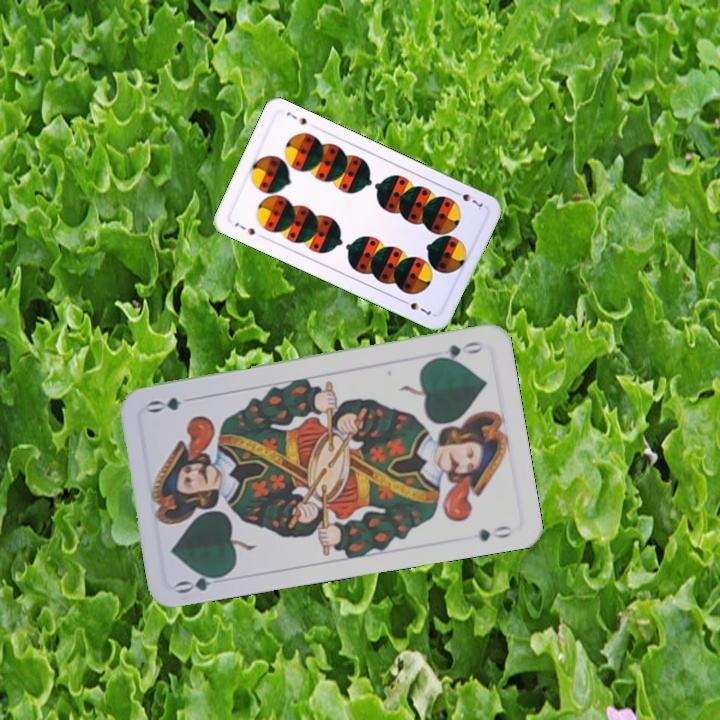GO: (172, 568, 230, 596), (428, 337, 485, 364)
S7: (449, 186, 486, 212), (231, 218, 257, 238)
